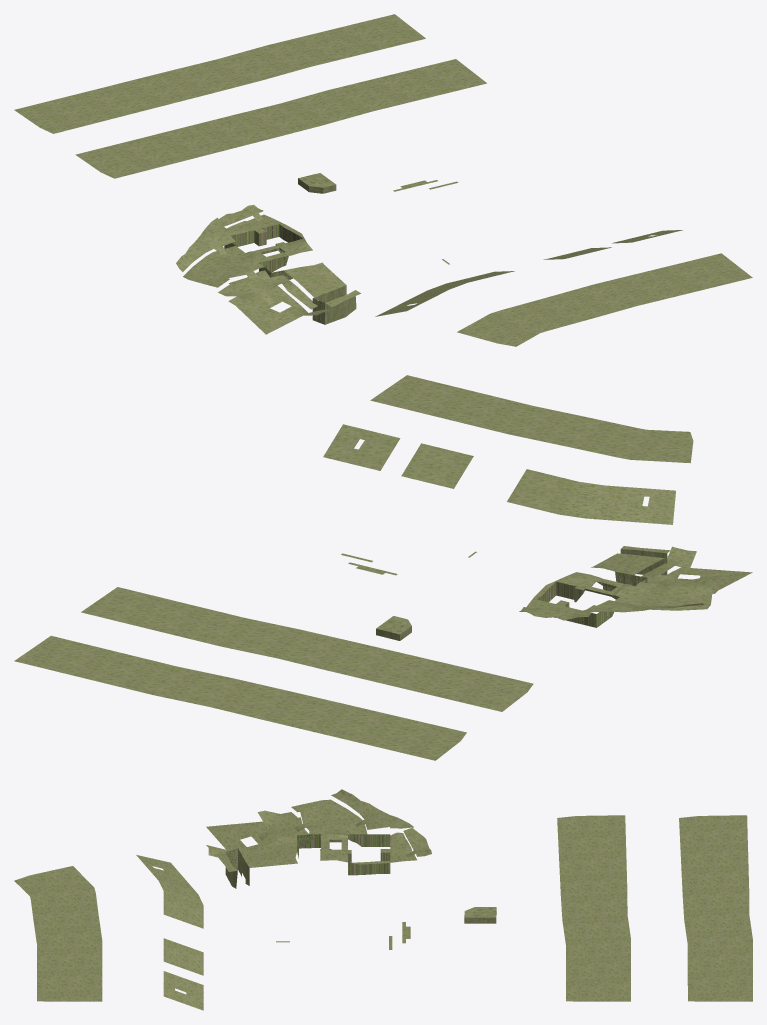
File: SM_Scene_A_Grass00 1.fbx
3 views of the same model, one above another, from view 1: azimuth 30°, elevation 25°; view 2: azimuth 150°, elevation 25°; view 3: azimuth 270°, elevation 25° (orthographic). The views are drawn at different scales.
Visible parts, largest first — view 1: SM_Scene_A_Grass00, SM_Scene_A_Grass00.002, SM_Scene_A_Grass00.001, SM_Scene_A_Grass00.004; view 2: SM_Scene_A_Grass00, SM_Scene_A_Grass00.001, SM_Scene_A_Grass00.002, SM_Scene_A_Grass00.004; view 3: SM_Scene_A_Grass00, SM_Scene_A_Grass00.001, SM_Scene_A_Grass00.002, SM_Scene_A_Grass00.004.
Part boxes in pixels (x1,y1,x2,y2): SM_Scene_A_Grass00: (14, 14, 486, 264); SM_Scene_A_Grass00.002: (176, 204, 360, 334); SM_Scene_A_Grass00.001: (375, 230, 752, 346); SM_Scene_A_Grass00.004: (298, 173, 336, 193); SM_Scene_A_Grass00: (14, 551, 533, 760); SM_Scene_A_Grass00.001: (323, 375, 693, 524); SM_Scene_A_Grass00.002: (519, 546, 752, 627); SM_Scene_A_Grass00.004: (376, 616, 411, 640); SM_Scene_A_Grass00: (276, 815, 752, 1001); SM_Scene_A_Grass00.001: (14, 855, 203, 1010); SM_Scene_A_Grass00.002: (206, 789, 431, 888); SM_Scene_A_Grass00.004: (464, 907, 496, 923).
Bounding box in the file's own units: 49351 × 4613 × 74544.
